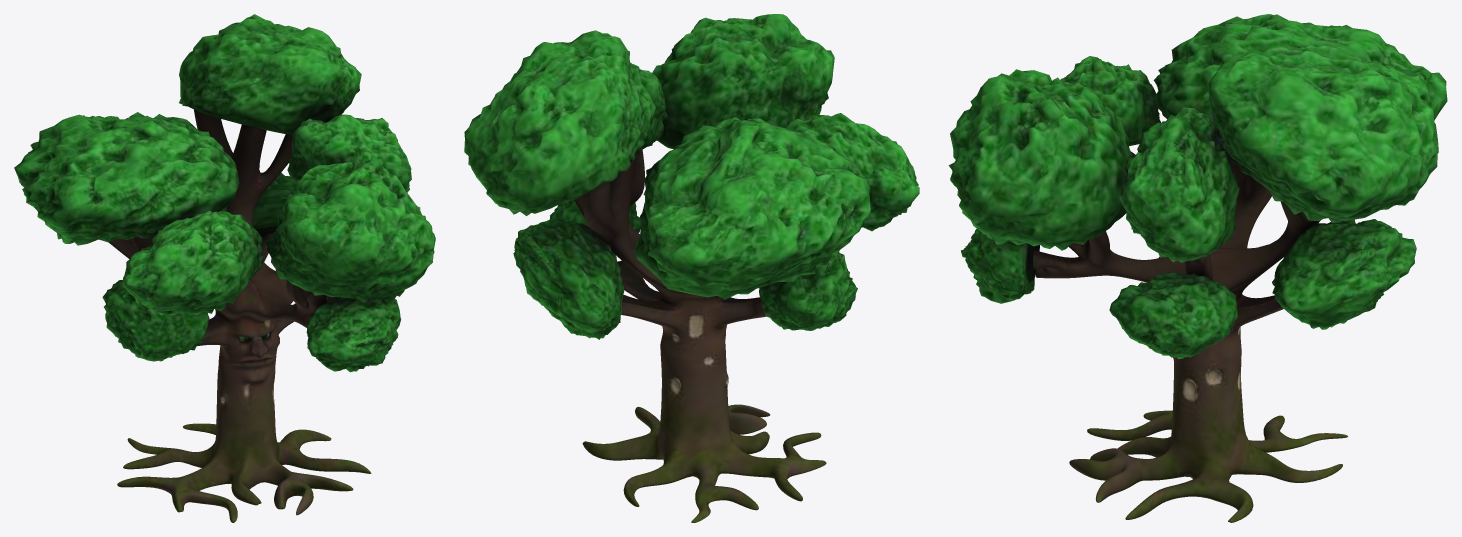
File: MZ4250 - Awakened Tree.glb
The picture shows the model from 3 angles, left to right: view 1: azimuth 30°, elevation 25°; view 2: azimuth 150°, elevation 25°; view 3: azimuth 270°, elevation 25°; orthographic projection. The views are drawn at different scales.
Parts seen in each view (by area): view 1: Sphere.007; view 2: Sphere.007; view 3: Sphere.007.
Boxes of the visible parts, x1,y1,x2,y2 form: Sphere.007: (14, 14, 435, 522); Sphere.007: (464, 14, 919, 522); Sphere.007: (948, 14, 1447, 522).
Size of the model in its own units: 27.49 by 31.45 by 31.31.
1 material, 1 textured.
